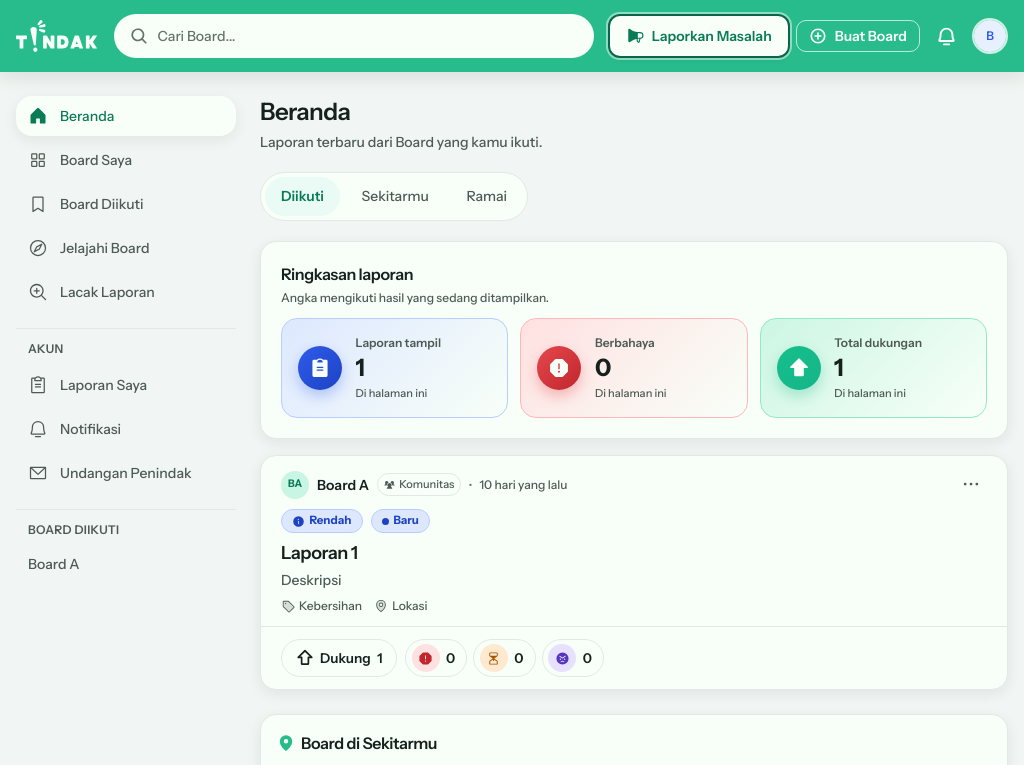
Test: Beranda › user dengan Board diikuti melihat tab Diikuti dan Ramai
Expected: the heading "Board di Sekitarmu" is shown, [277, 733, 437, 753]
Click the tab "Ramai". click: (487, 196)
box: [450, 177, 523, 216]
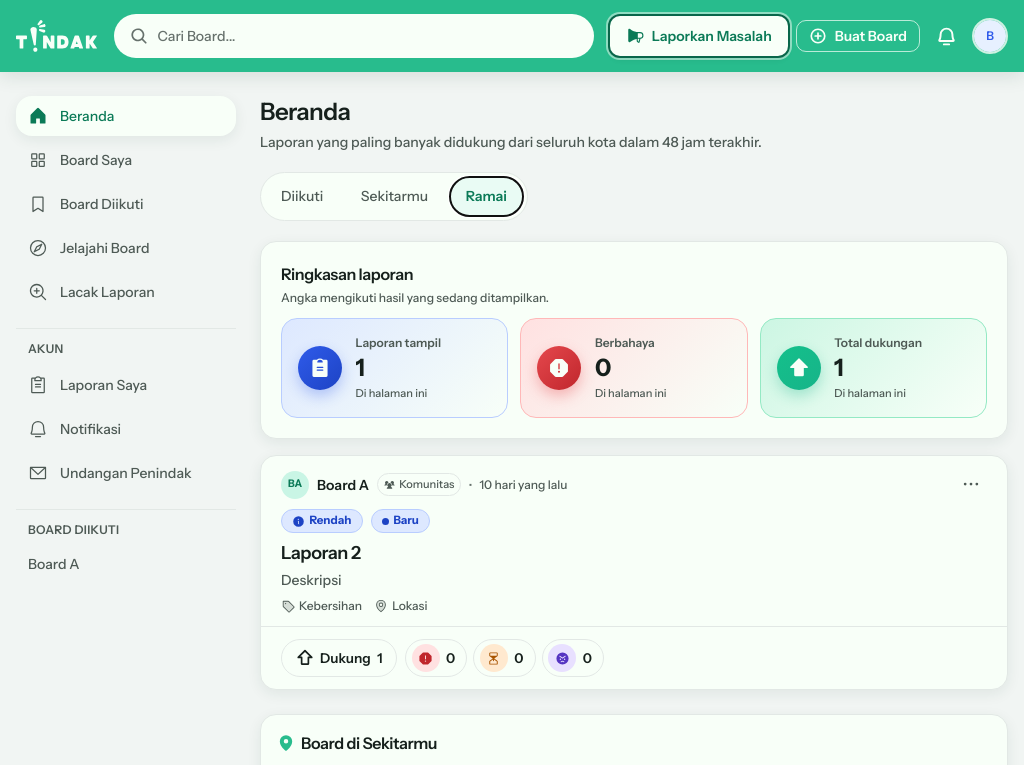
Now the heading "Laporan 2" is shown, box [281, 542, 360, 564]
